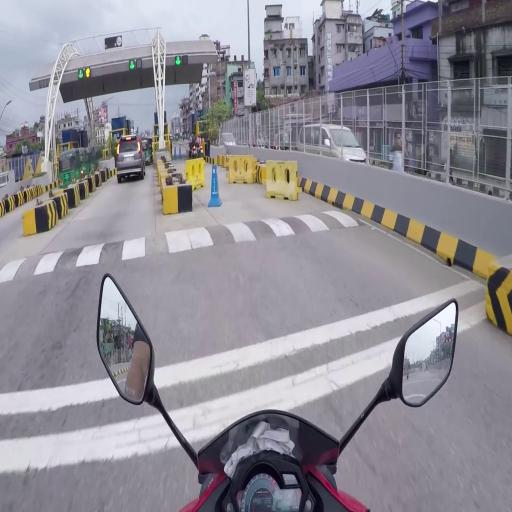minivan: (219, 133, 238, 148)
motorbike: (196, 135, 206, 158), (190, 135, 197, 157)
suv: (116, 136, 146, 182)
three wheelers (CNG): (59, 148, 82, 188), (142, 137, 152, 167), (80, 148, 91, 175), (88, 147, 100, 171), (278, 133, 291, 151)
van: (298, 123, 369, 164)
